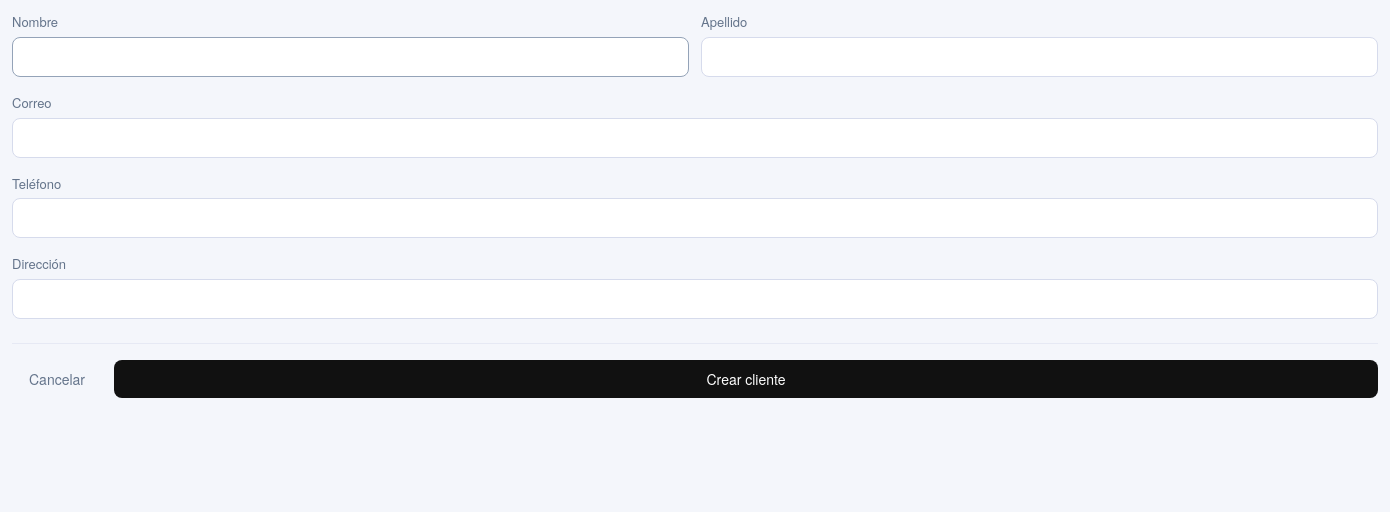
Scenario: ClienteForm › campos vacíos muestran mensajes propios en español, no el popover nativo del navegador
Step 1. Click the button "Crear cliente" → (746, 379), box [114,360,1378,398]
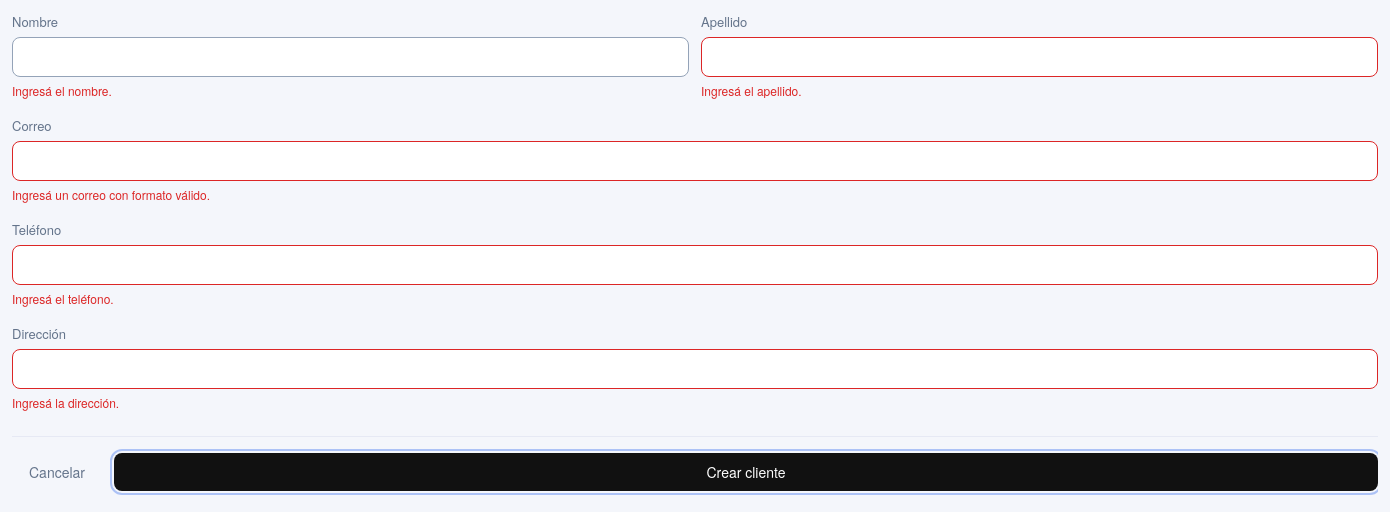
Expected: the text "Ingresá el nombre." is shown, [12,82,112,99]
Expected: the text "Ingresá el apellido." is shown, [701,82,802,99]
Expected: the text "Ingresá un correo con formato válido." is shown, [12,186,210,203]
